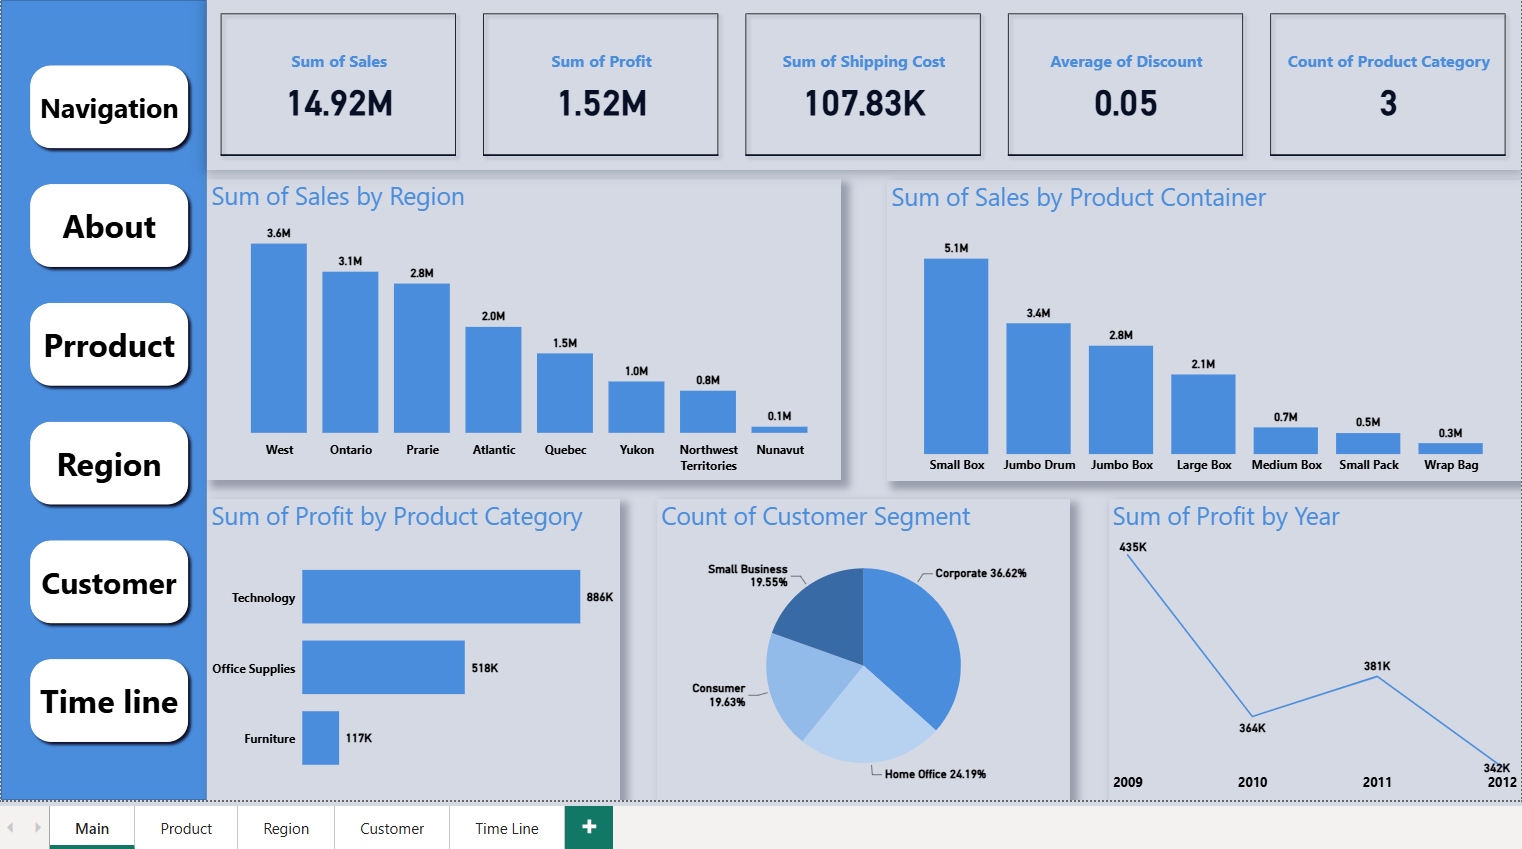

What the dashboard file says about the page in this screenshot:
{"tool":"powerbi","page":{"name":"main","canvas":[1900,1000],"ordinal":0},"visuals":[{"type":"shape","box":[0,0,257.1,1000],"z":0},{"type":"cardVisual","fields":{"Data":["Sum(Final Data.Sales)","Sum(Final Data.Profit)","Sum(Final Data.Shipping Cost)","Avg(Final Data.Discount)","Count(Final Data.Product Category)"]},"box":[257.1,0,1642.9,212.5],"z":1000},{"type":"actionButton","box":[28,370.8,214,120],"z":2000},{"type":"actionButton","box":[28,519.2,214,120],"z":3000},{"type":"actionButton","box":[28,667.6,214,120],"z":4000},{"type":"actionButton","box":[28,222.4,214,120],"z":5000},{"type":"actionButton","box":[28,74,214,120],"z":6000},{"type":"actionButton","box":[28,816,214,120],"z":7000},{"type":"barChart","fields":{"Y":["Sum(Final Data.Profit)"],"Category":["Final Data.Product Category"]},"box":[257.1,623.2,516.1,376.8],"z":8000},{"type":"columnChart","fields":{"Category":["Final Data.Region"],"Y":["Sum(Final Data.Sales)"]},"box":[257.1,223.2,792.9,376.8],"z":9000},{"type":"lineChart","fields":{"Y":["Sum(Final Data.Profit)"],"Category":["Final Data.Order Date.Variation.Date Hierarchy.Year"]},"box":[1383.9,623.2,516.1,376.8],"z":10000},{"type":"pieChart","title":"Count of Customer Segment","fields":{"Y":["CountNonNull(Final Data.Customer Segment)"],"Category":["Final Data.Customer Segment"]},"box":[819.6,623.2,516.1,376.8],"z":11000},{"type":"columnChart","fields":{"Category":["Final Data.Product Container"],"Y":["Sum(Final Data.Sales)"]},"box":[1107.1,225,792.9,376.8],"z":12000}]}

Visuals, with their boxes on the page's 1900x1000 design canvas (x1, y1, x2, y2). These are canvas units, not pixel positions in the 1522x849 screenshot, which may show the page scaled, cropped or inside an application window:
shape: bbox=(0, 0, 257, 1000)
cardVisual - Sum(Final Data.Sales) x Sum(Final Data.Profit): bbox=(257, 0, 1900, 212)
actionButton: bbox=(28, 371, 242, 491)
actionButton: bbox=(28, 519, 242, 639)
actionButton: bbox=(28, 668, 242, 788)
actionButton: bbox=(28, 222, 242, 342)
actionButton: bbox=(28, 74, 242, 194)
actionButton: bbox=(28, 816, 242, 936)
barChart - Sum(Final Data.Profit) x Final Data.Product Category: bbox=(257, 623, 773, 1000)
columnChart - Final Data.Region x Sum(Final Data.Sales): bbox=(257, 223, 1050, 600)
lineChart - Sum(Final Data.Profit) x Final Data.Order Date.Variation.Date Hierarchy.Year: bbox=(1384, 623, 1900, 1000)
"Count of Customer Segment" pieChart: bbox=(820, 623, 1336, 1000)
columnChart - Final Data.Product Container x Sum(Final Data.Sales): bbox=(1107, 225, 1900, 602)
